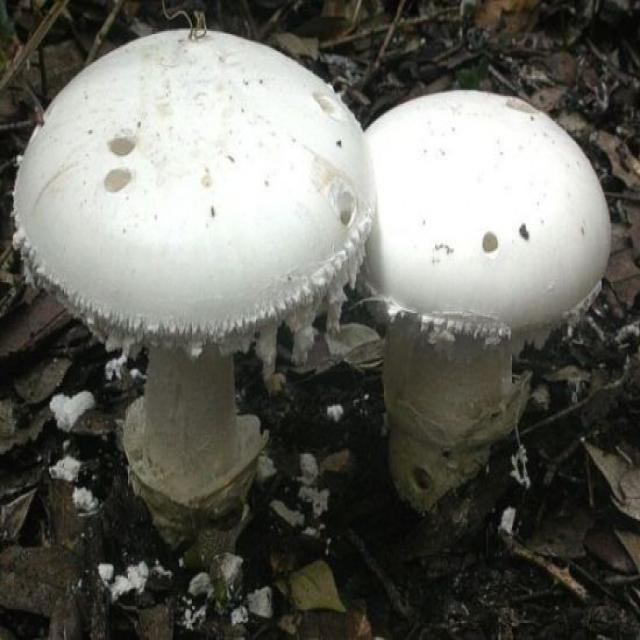Agaricus bisporus: (15, 26, 372, 532), (359, 88, 613, 501)
